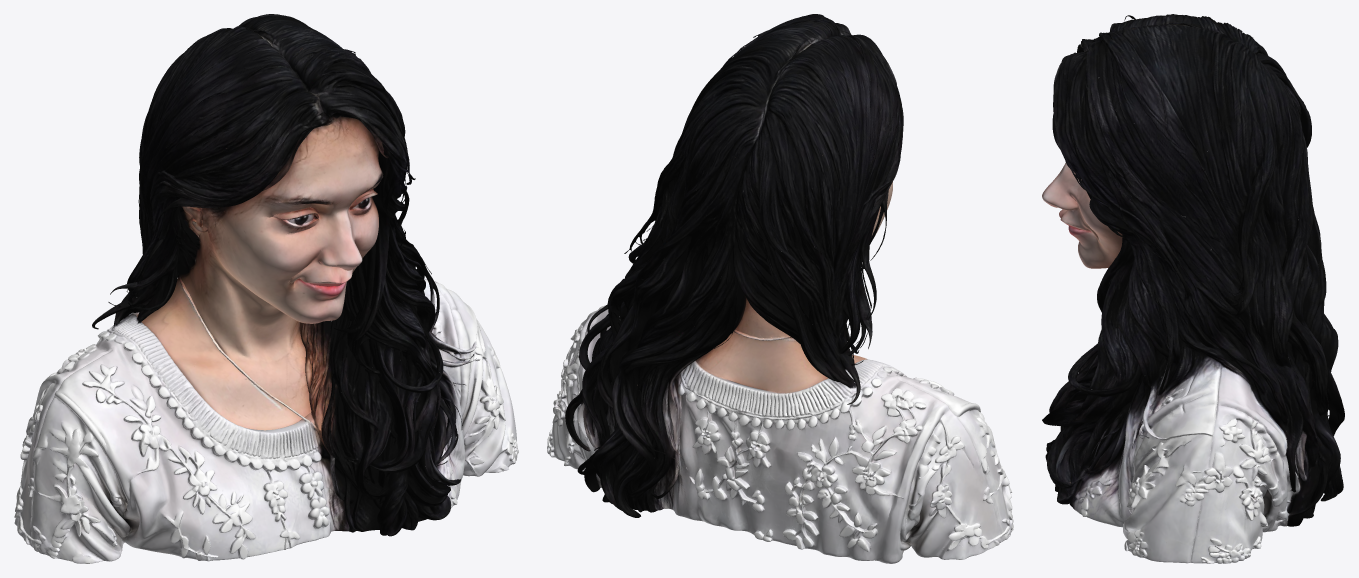
3 views of the same model, side by side, from view 1: azimuth 30°, elevation 25°; view 2: azimuth 150°, elevation 25°; view 3: azimuth 270°, elevation 25° (orthographic). The views are drawn at different scales.
Visible parts, largest first — view 1: geometry_0; view 2: geometry_0; view 3: geometry_0.
Part boxes in pixels (left/top/right/bottom): geometry_0: left=14, top=14, right=518, bottom=563; geometry_0: left=547, top=14, right=1013, bottom=563; geometry_0: left=1042, top=14, right=1344, bottom=563.
Size of the model in its own units: 1.9 by 1.82 by 1.15.
Materials: 1 (1 with a texture image).
